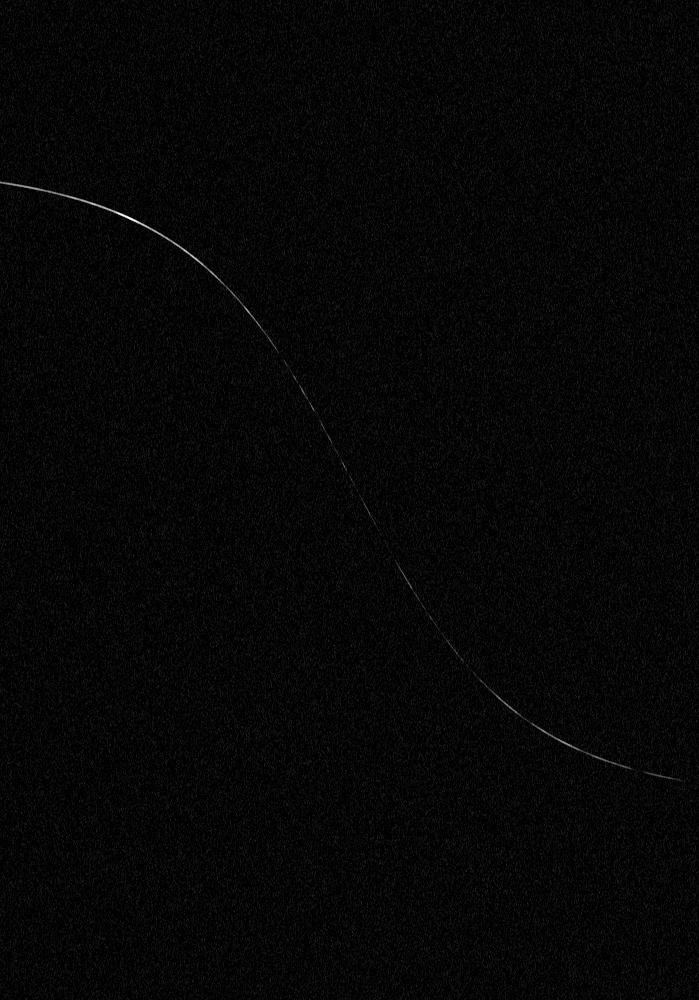signal: (0, 0, 698, 999)
